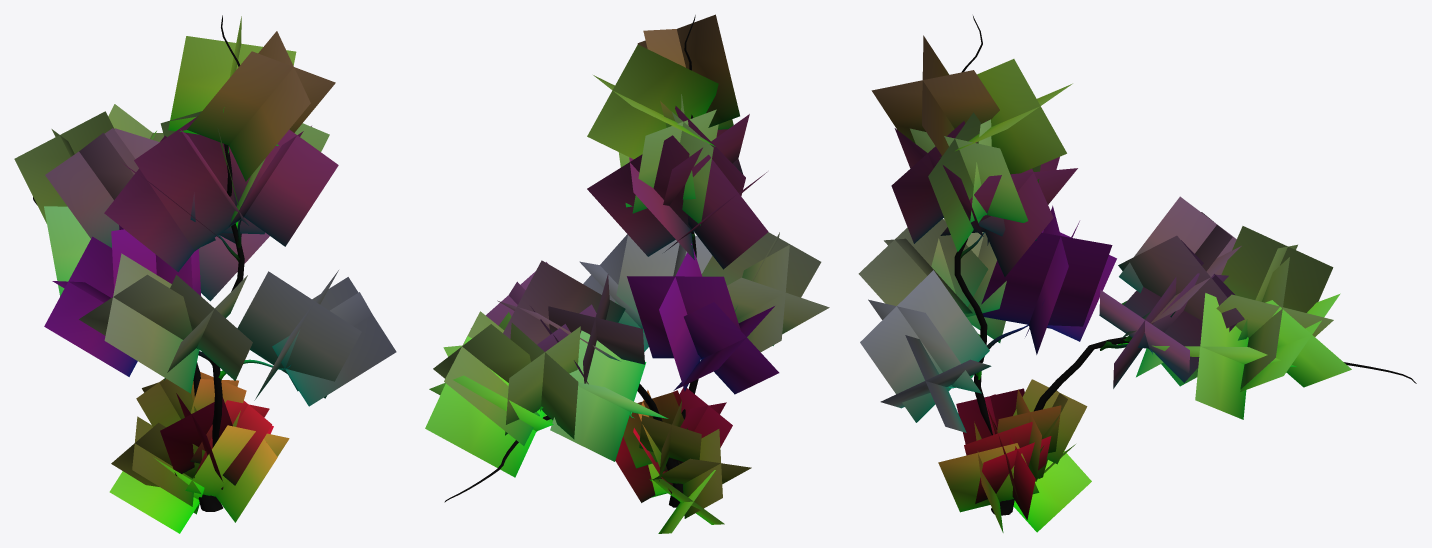
The model's file is URP_P12_Tree_9_LOD_0.fbx.
3 renders of one model, left to right at view 1: azimuth 30°, elevation 25°; view 2: azimuth 150°, elevation 25°; view 3: azimuth 270°, elevation 25°, orthographic. The views are drawn at different scales.
Visible parts, largest first — view 1: Tree_9_LOD_0; view 2: Tree_9_LOD_0; view 3: Tree_9_LOD_0.
Boxes of the visible parts, bbox=[...] form: Tree_9_LOD_0: bbox=[14, 15, 396, 533]; Tree_9_LOD_0: bbox=[425, 14, 829, 533]; Tree_9_LOD_0: bbox=[858, 16, 1416, 532].
Bounding box in the file's own units: 197 × 351 × 345.
